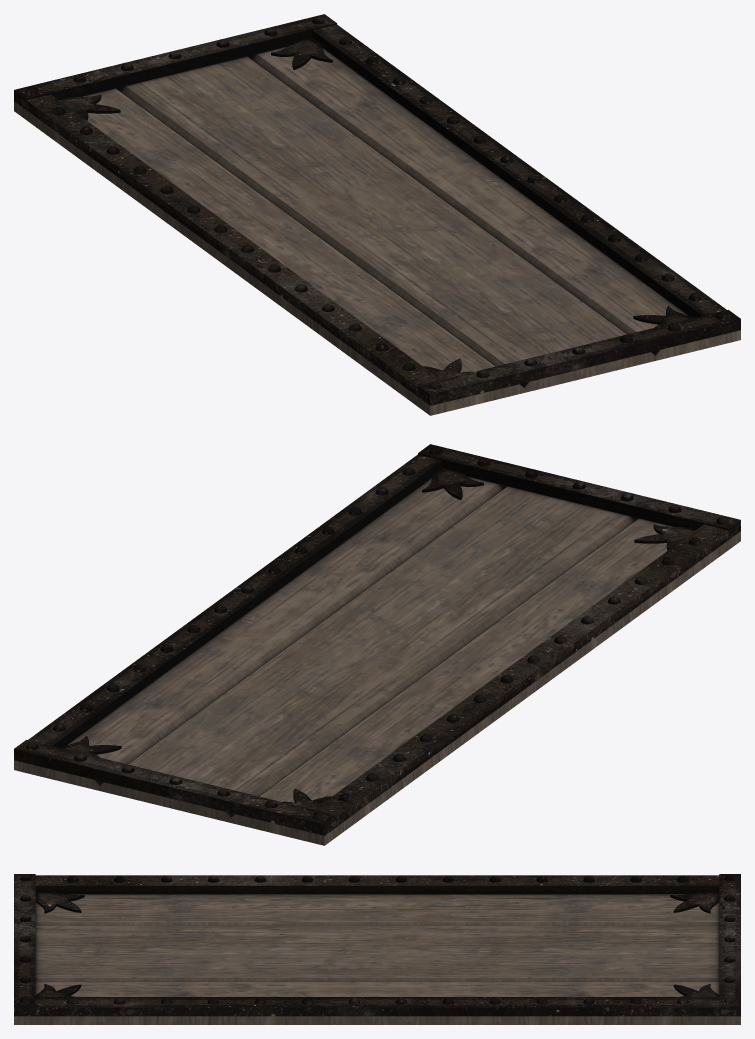
The model's file is placeholderrundacolor01.fbx.
3 renders of one model, top to bottom at view 1: azimuth 30°, elevation 25°; view 2: azimuth 150°, elevation 25°; view 3: azimuth 270°, elevation 25°, orthographic. The views are drawn at different scales.
Visible parts, largest first — view 1: Object003, Object001, Box009, Object004, Box005, Line001, Sphere037, Sphere002, Sphere016, Sphere001; view 2: Object003, Object001, Box009, Object004, Box005, Line001, Sphere002, Sphere037, Sphere016, Sphere001; view 3: Object003, Box009, Object001, Object004, Box005, Line001, Sphere002, Sphere037, Sphere001, Sphere016.
Part boxes in pixels (bbox=[...]): Object003: bbox=[116, 56, 655, 392]; Object001: bbox=[14, 88, 524, 415]; Box009: bbox=[26, 24, 726, 396]; Object004: bbox=[247, 46, 740, 360]; Box005: bbox=[14, 14, 740, 405]; Line001: bbox=[58, 38, 694, 379]; Sphere037: bbox=[53, 107, 415, 370]; Sphere002: bbox=[339, 37, 701, 301]; Sphere016: bbox=[428, 311, 728, 389]; Sphere001: bbox=[25, 16, 325, 94]; Object003: bbox=[99, 486, 638, 822]; Object001: bbox=[230, 518, 740, 845]; Box009: bbox=[28, 454, 728, 826]; Object004: bbox=[14, 476, 507, 790]; Box005: bbox=[14, 444, 740, 835]; Line001: bbox=[60, 468, 696, 809]; Sphere002: bbox=[53, 467, 415, 731]; Sphere037: bbox=[339, 537, 701, 801]; Sphere016: bbox=[429, 446, 729, 524]; Sphere001: bbox=[26, 741, 325, 819]; Object003: bbox=[35, 926, 719, 981]; Box009: bbox=[28, 875, 726, 1016]; Object001: bbox=[35, 894, 719, 925]; Object004: bbox=[14, 982, 740, 1024]; Box005: bbox=[14, 874, 740, 1016]; Line001: bbox=[35, 892, 719, 996]; Sphere002: bbox=[67, 997, 688, 1004]; Sphere037: bbox=[67, 875, 688, 882]; Sphere001: bbox=[724, 874, 735, 1003]; Sphere016: bbox=[20, 874, 31, 1003].
Bounding box in the file's own units: 227 × 18.32 × 528.
